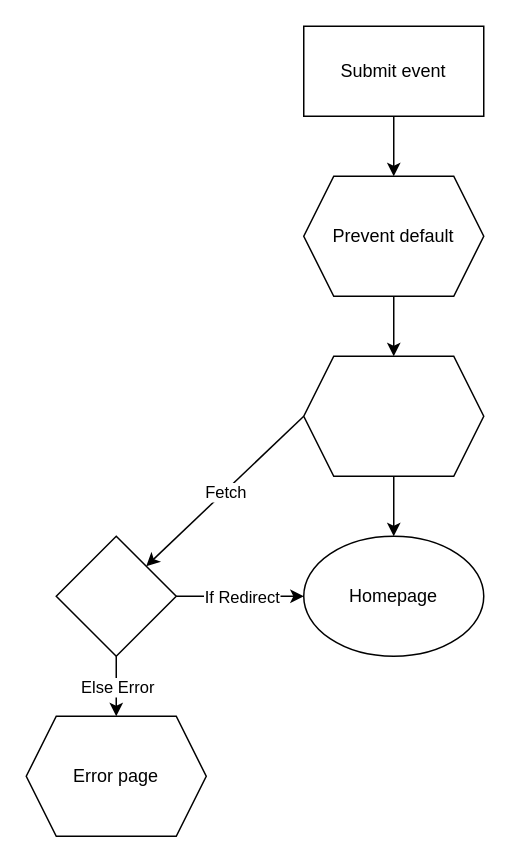
Image size: 510x863. Some labels were removed from this diagram. The shapes that lost their labels are listed below. From the top down, each one's box as (x1, y1, x2, y2) in pixels, then its label:
(302, 355, 484, 476): Create 'data' object for username and password
(55, 535, 176, 656): Server
